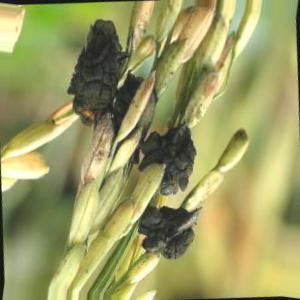Leaf_Scald: (68, 21, 126, 123), (147, 126, 200, 189), (141, 202, 194, 257)
